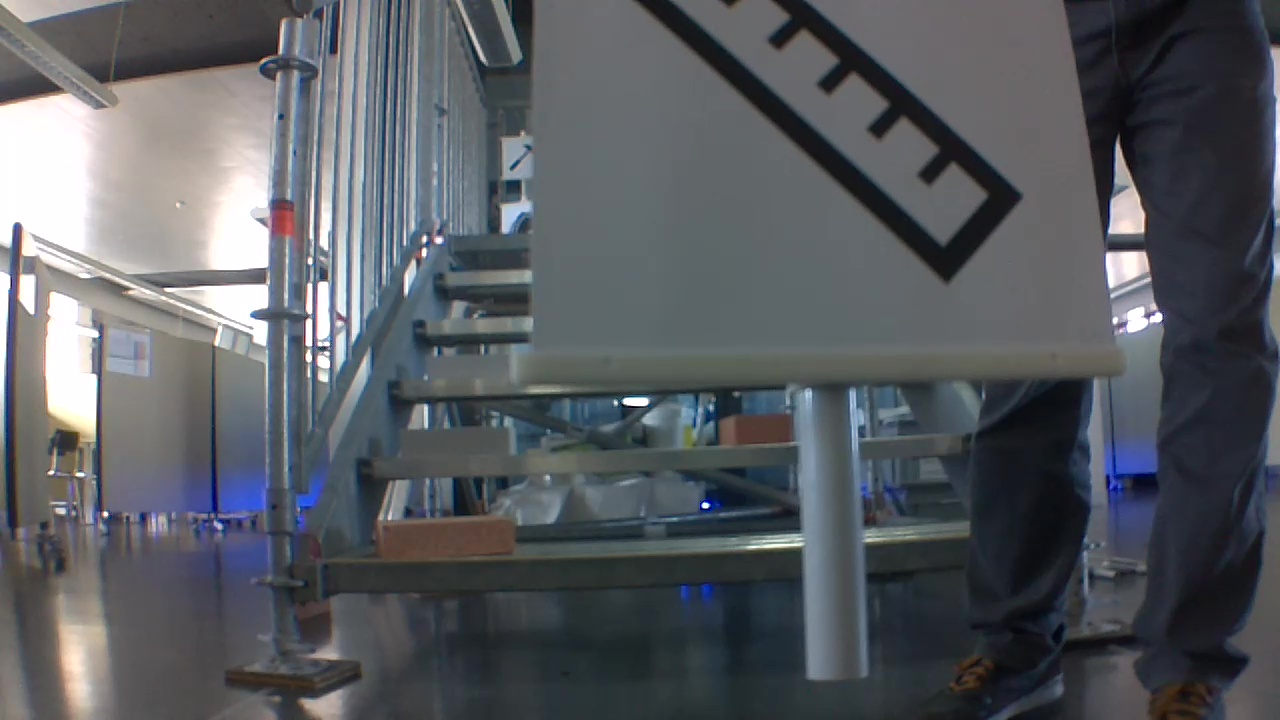brick: (381, 512, 519, 561), (401, 432, 523, 456), (422, 357, 510, 379), (722, 416, 792, 443)
edge: (327, 534, 982, 596), (360, 432, 969, 479)
ruler: (595, 0, 1038, 308)
taco: (515, 215, 532, 233)
